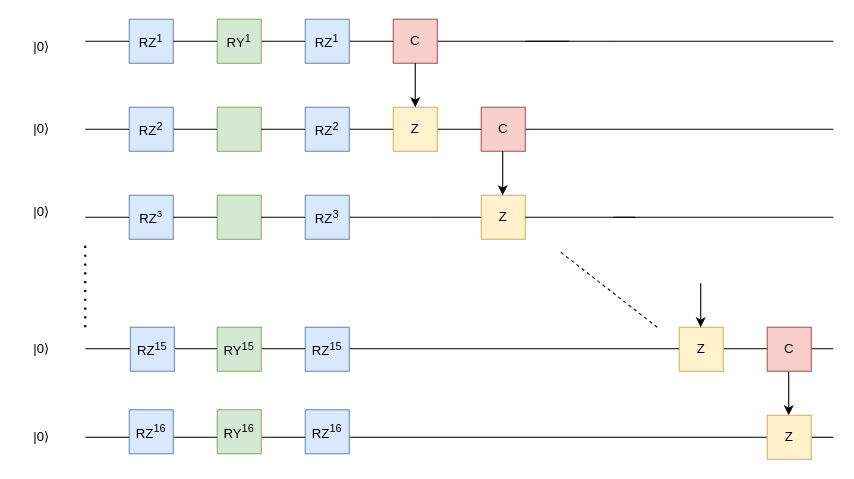
Image size: 854x479. Some labels were removed from this diagram. The centre of each missing label's shape, as x and y in pixels:
"RY 2" belongs at [238,128].
"RY 3" belongs at [238,216].
